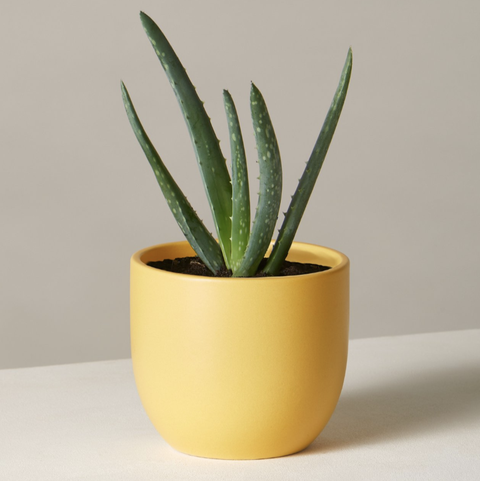plants: (120, 9, 361, 276)
